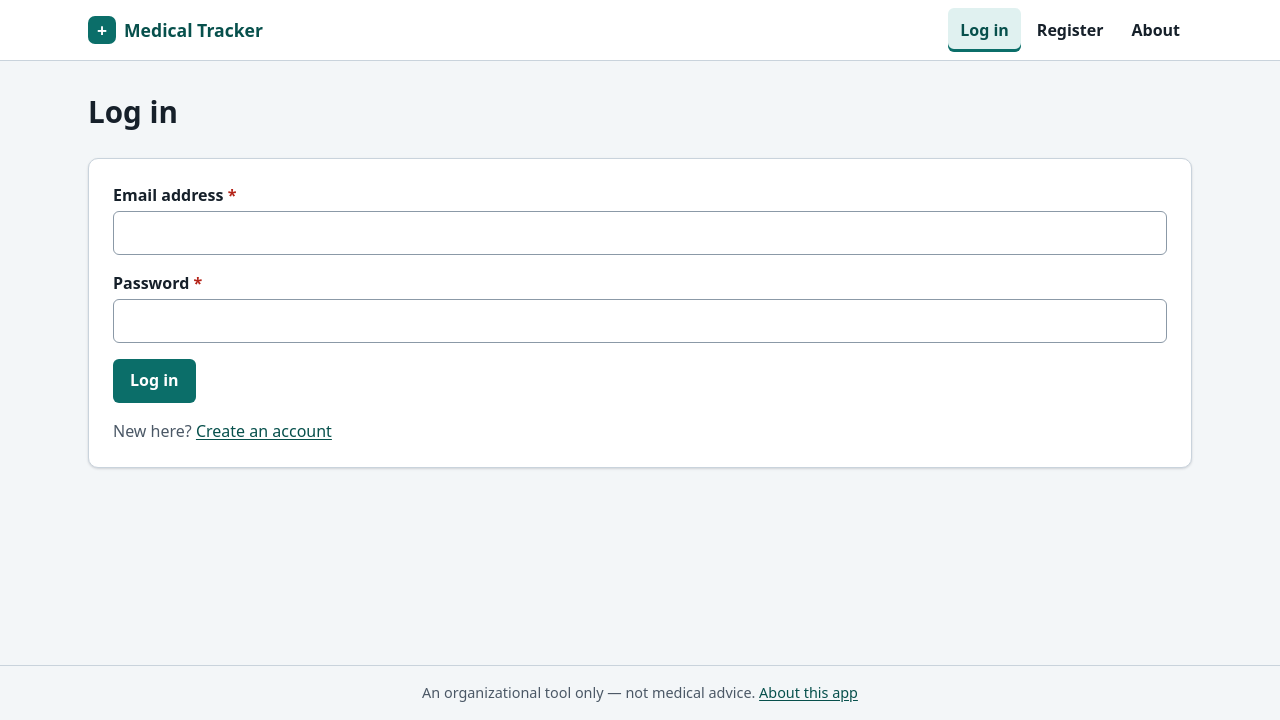
Test: logout › TC-FR-006-08 — Selecting logout clears local session state before the request is sent
Type "person@example.com" into the field labelled "Email address *". click: x=640, y=233
box: left=113, top=211, right=1167, bottom=255
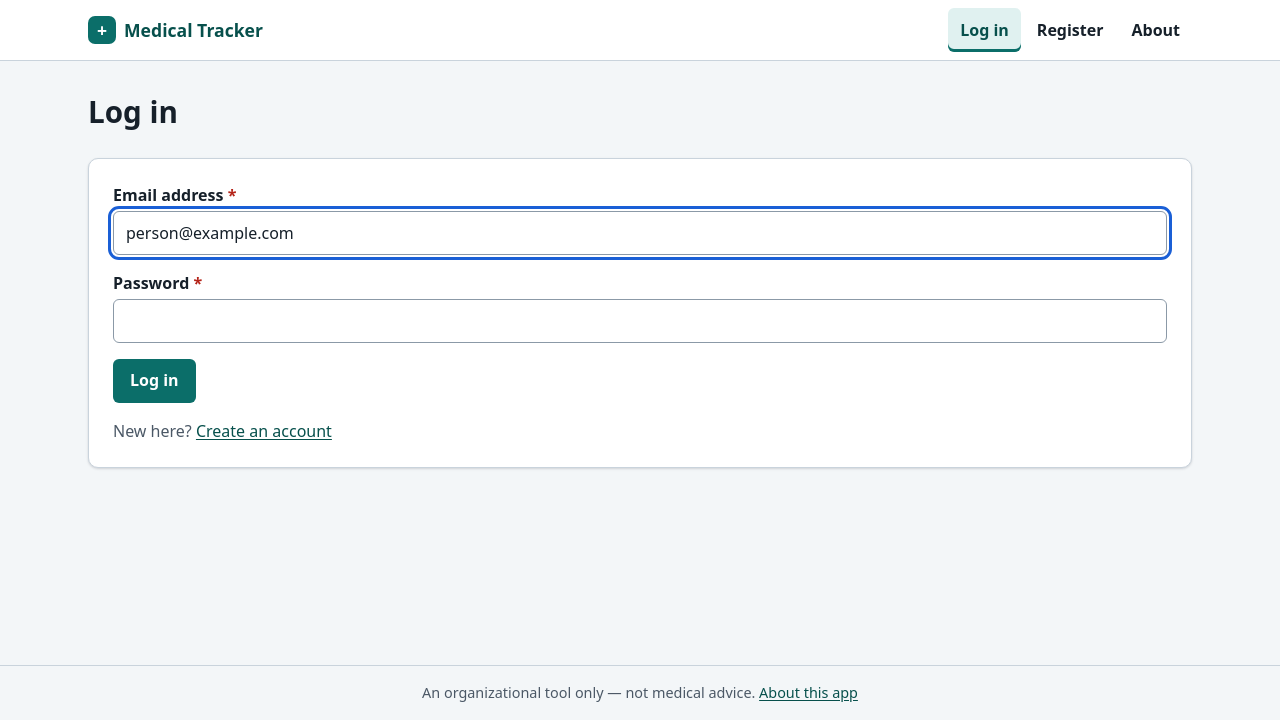
Type "correct-horse-battery" into the password field labelled "Password *". click: x=640, y=321
box: left=113, top=299, right=1167, bottom=343
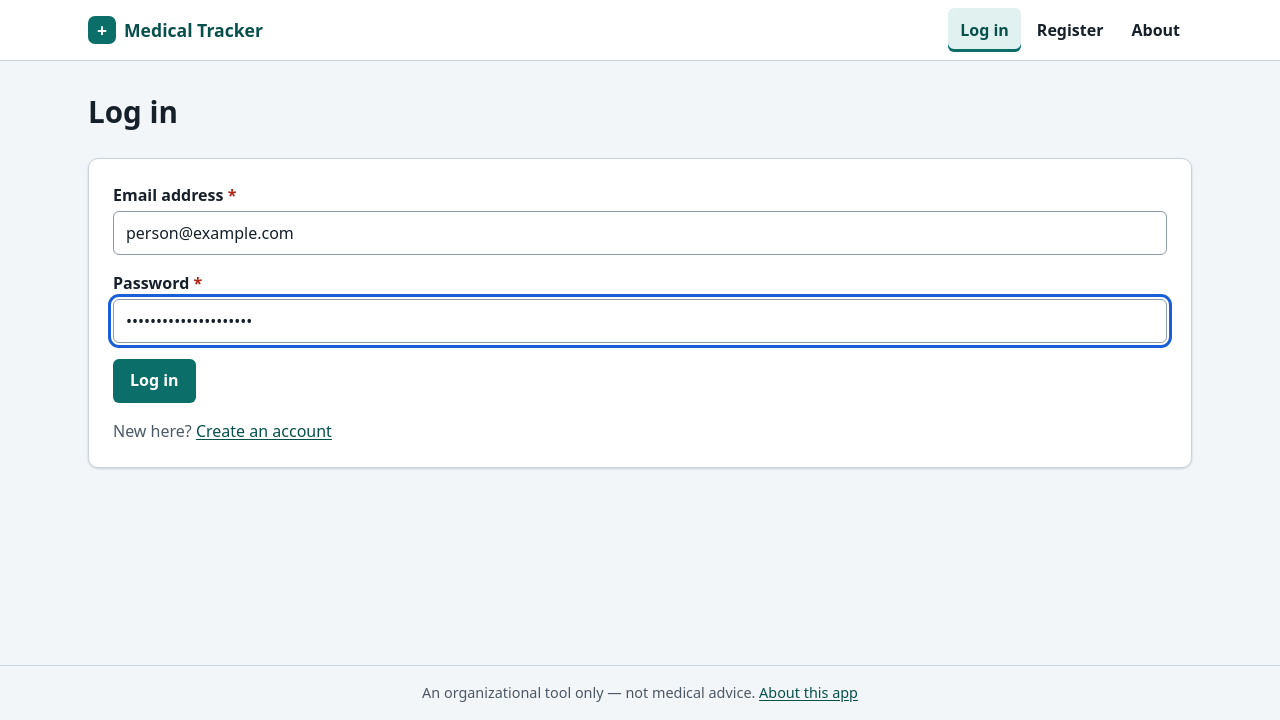
Click the button "Log in". click: x=154, y=381
box: left=113, top=359, right=196, bottom=403
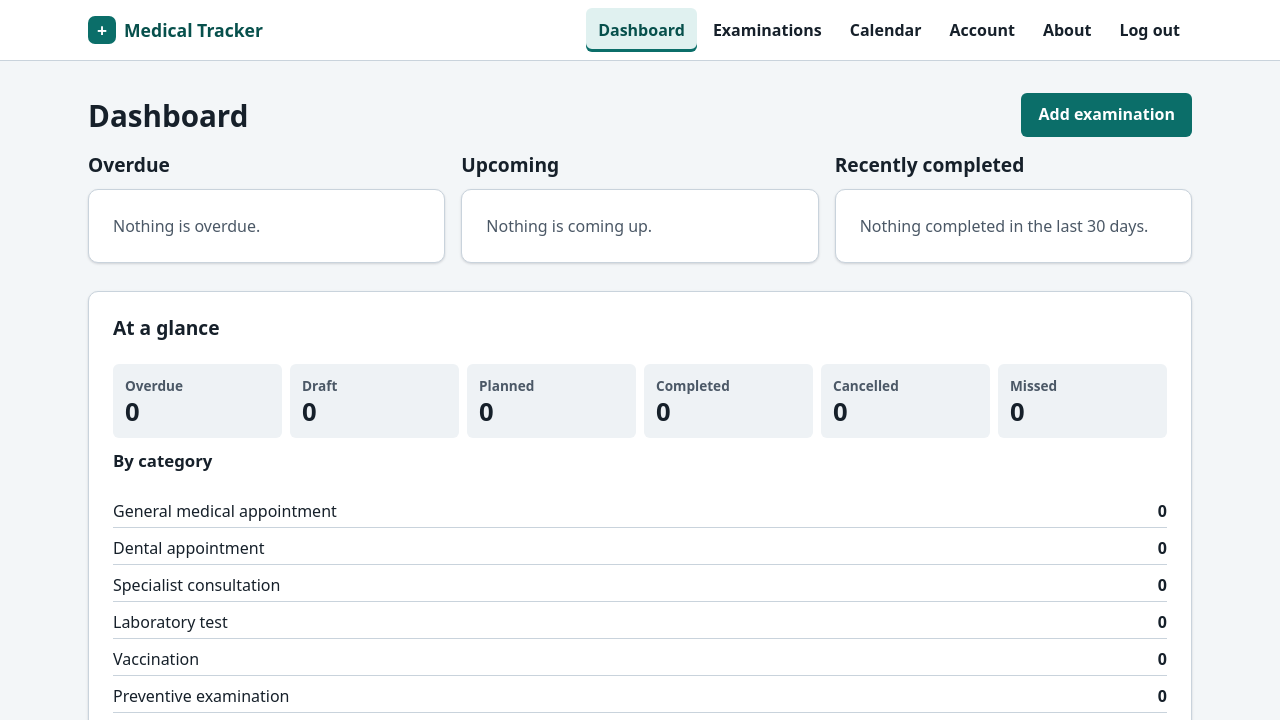
expect the heading "Dashboard" is shown: met, box left=88, top=96, right=248, bottom=134
Click the button "Log out". click: x=1150, y=30
box: left=1107, top=8, right=1192, bottom=52
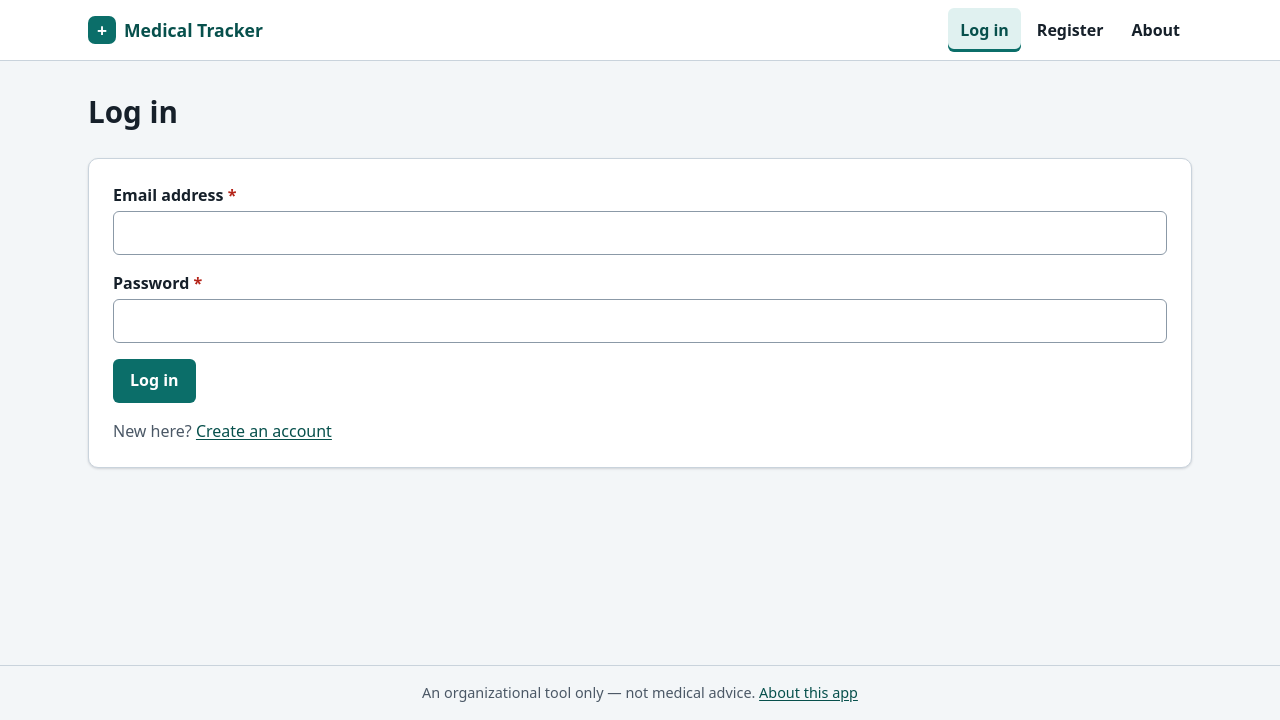
expect the heading "Log in" is shown: met, box left=88, top=91, right=178, bottom=132
